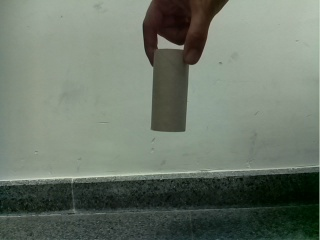rollo papel: (150, 49, 190, 133)
